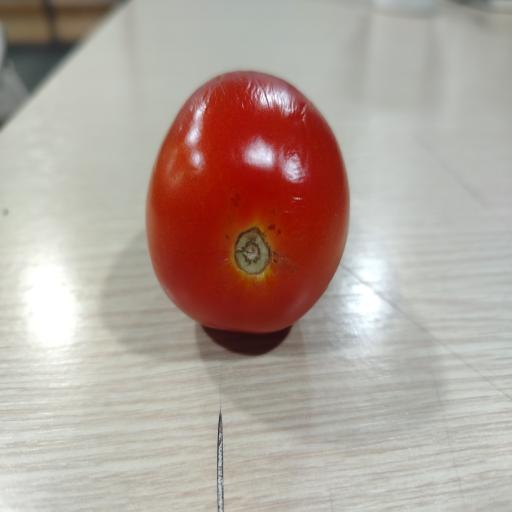overipe: (146, 72, 349, 332)
